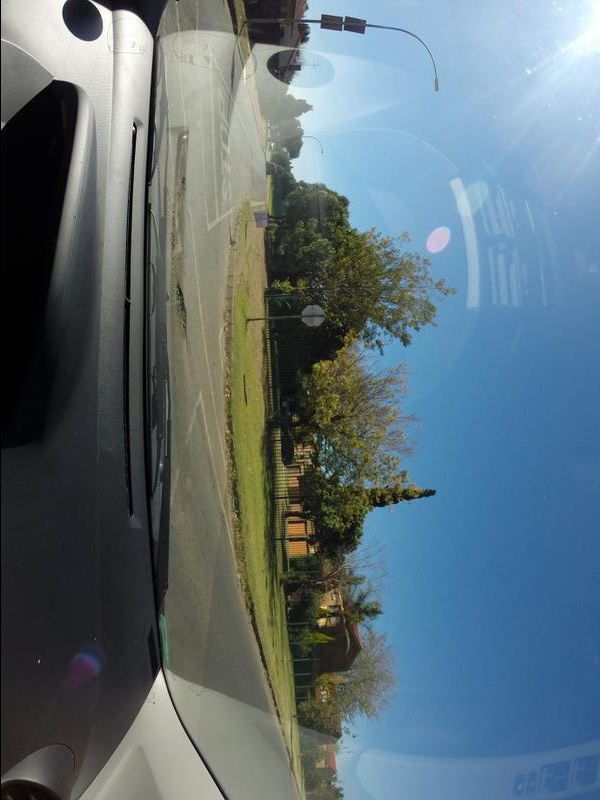pothole: (173, 275, 190, 336)
